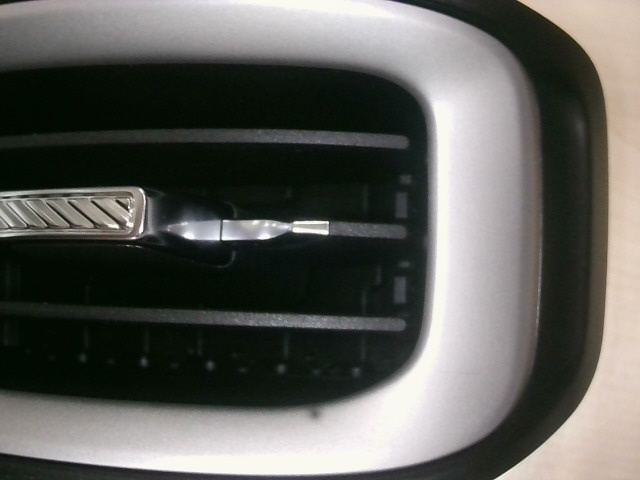NG: (436, 354, 496, 392)
